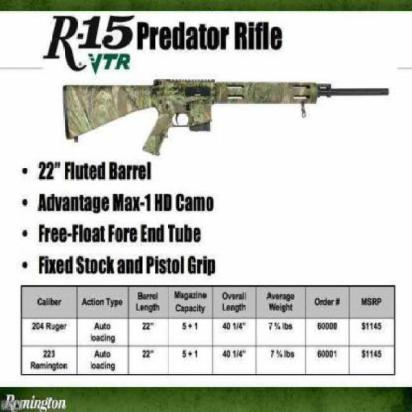Gun: (55, 66, 398, 162)
